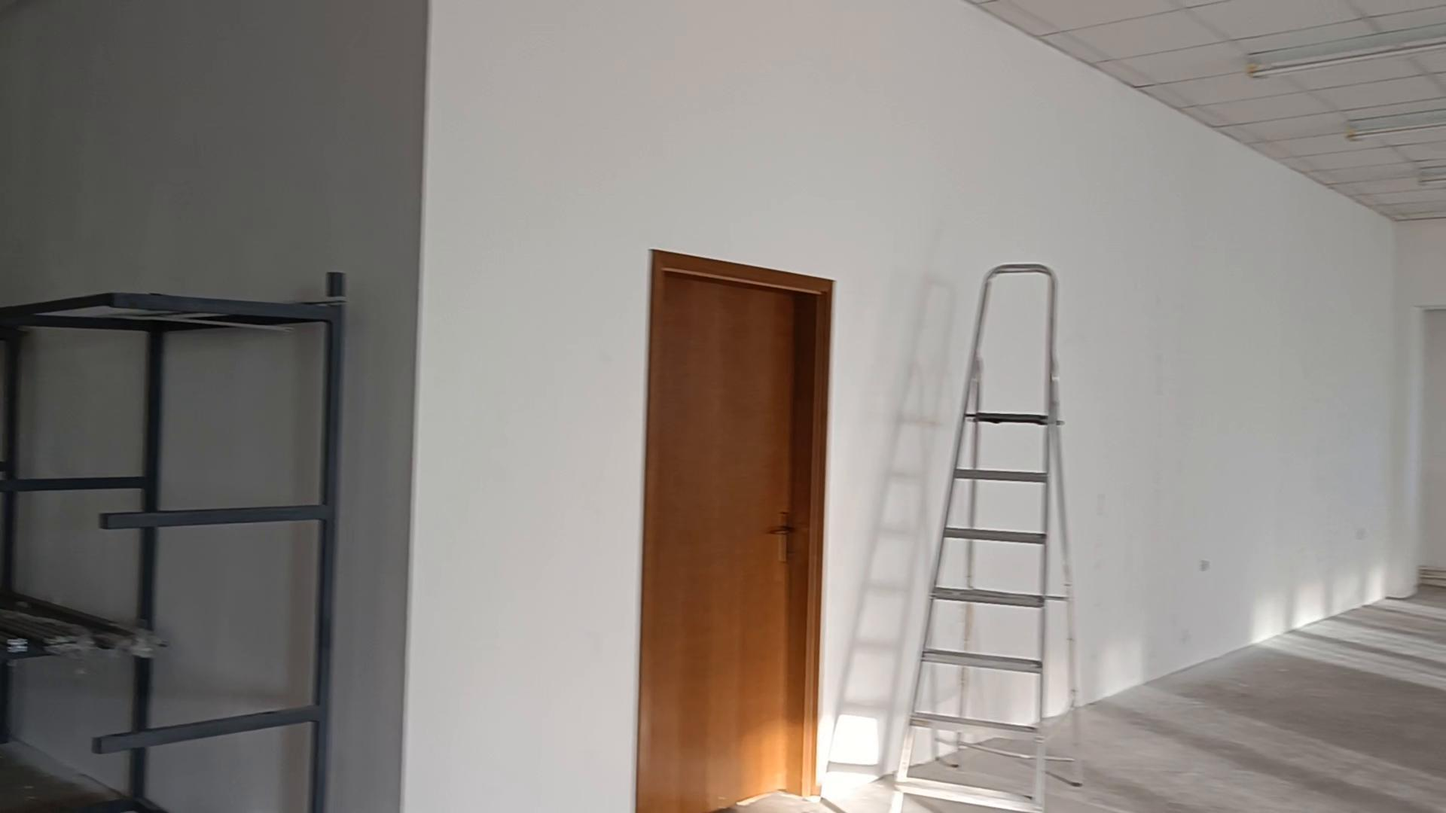ceiling: (969, 0, 1445, 220)
floor: (1048, 587, 1445, 812)
wall: (0, 0, 1445, 812), (0, 0, 426, 812), (145, 521, 319, 726), (158, 324, 324, 509), (20, 329, 146, 486), (15, 488, 143, 625)
